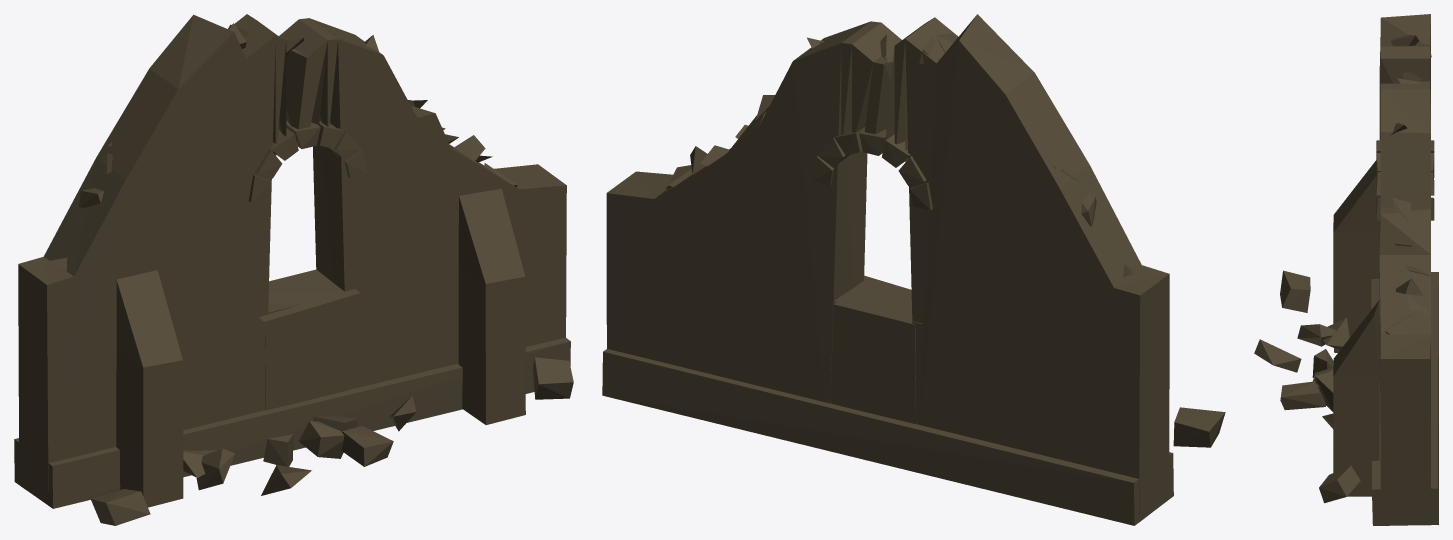
Rendered from ruin-wall-lod1.glb.
The picture shows the model from 3 angles, left to right: view 1: azimuth 30°, elevation 25°; view 2: azimuth 150°, elevation 25°; view 3: azimuth 270°, elevation 25°; orthographic projection. The views are drawn at different scales.
Bounding box in the file's own units: 10.02 × 7.9 × 3.58.
